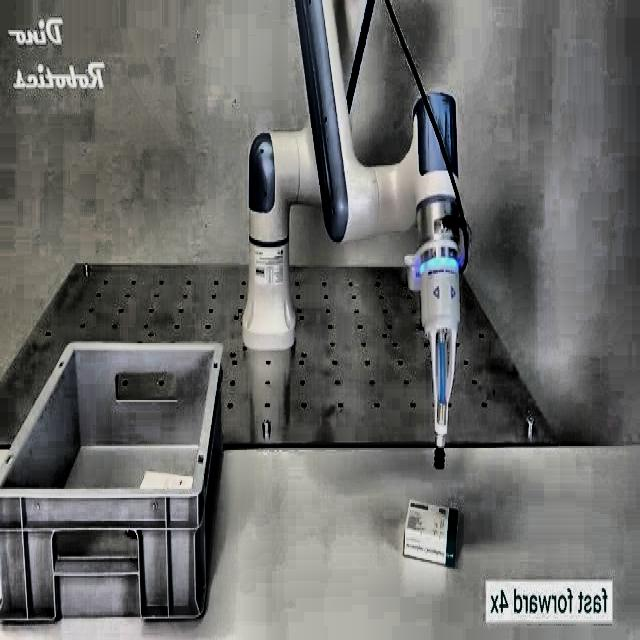robot: (242, 0, 471, 468)
